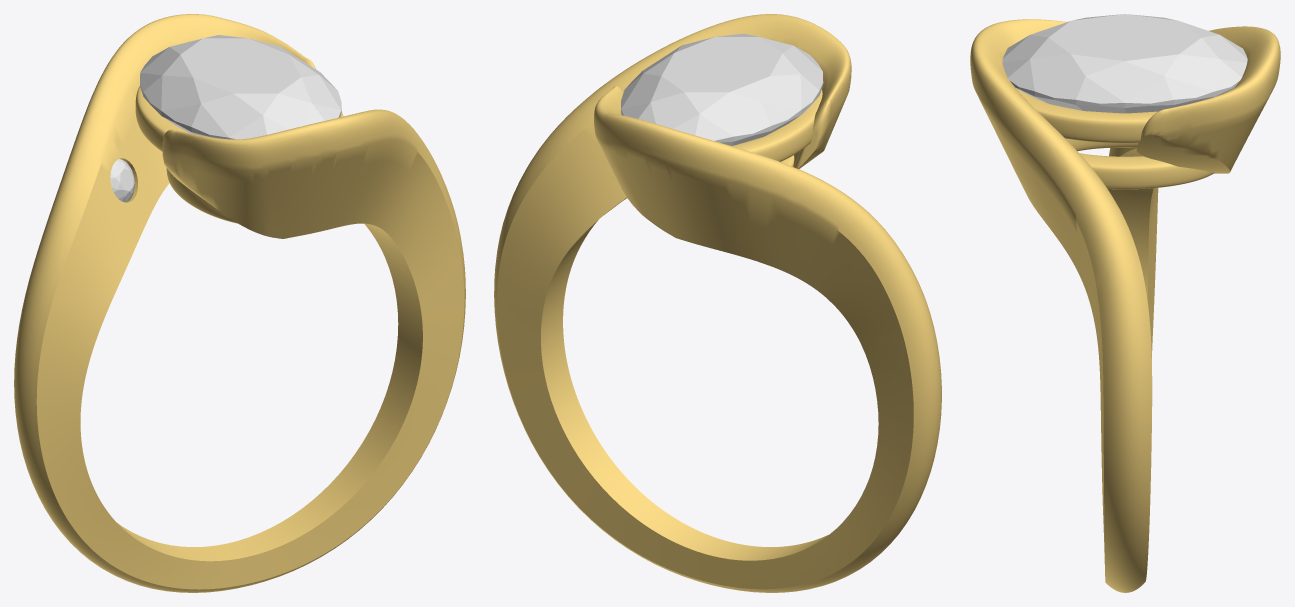
File: JCV2bypass_blender.glb
The picture shows the model from 3 angles, left to right: view 1: azimuth 30°, elevation 25°; view 2: azimuth 150°, elevation 25°; view 3: azimuth 270°, elevation 25°; orthographic projection.
Parts seen in each view (by area): view 1: Version 2 JC YG for 3d model, Version 2 JC dia for CUT.002, Version 2 JC dia for CUT; view 2: Version 2 JC YG for 3d model, Version 2 JC dia for CUT.002; view 3: Version 2 JC YG for 3d model, Version 2 JC dia for CUT.002.
Boxes of the visible parts, box(x1,y1,x2,y2) form: Version 2 JC YG for 3d model: box(14, 14, 465, 592); Version 2 JC dia for CUT.002: box(140, 35, 341, 139); Version 2 JC dia for CUT: box(110, 159, 135, 202); Version 2 JC YG for 3d model: box(494, 14, 941, 592); Version 2 JC dia for CUT.002: box(621, 33, 823, 145); Version 2 JC YG for 3d model: box(970, 19, 1280, 592); Version 2 JC dia for CUT.002: box(1002, 14, 1247, 113).
Bounding box in the file's own units: 23.11 × 25.95 × 13.84.
